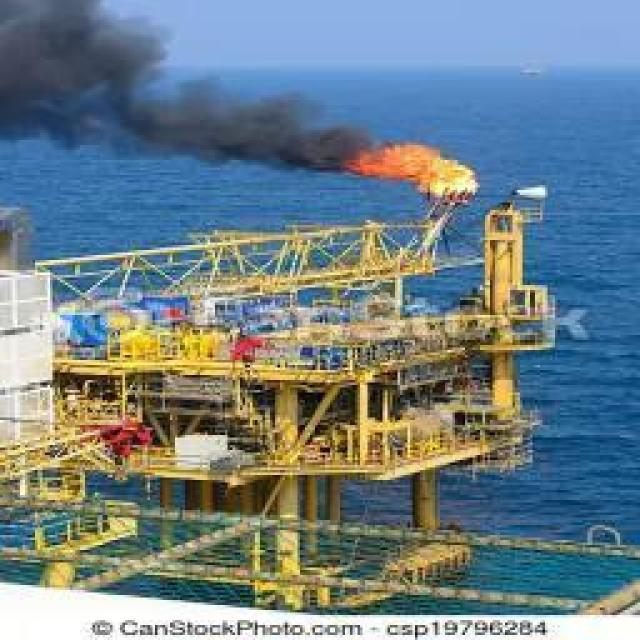fire: (348, 141, 477, 197)
smoke: (0, 2, 370, 169)
